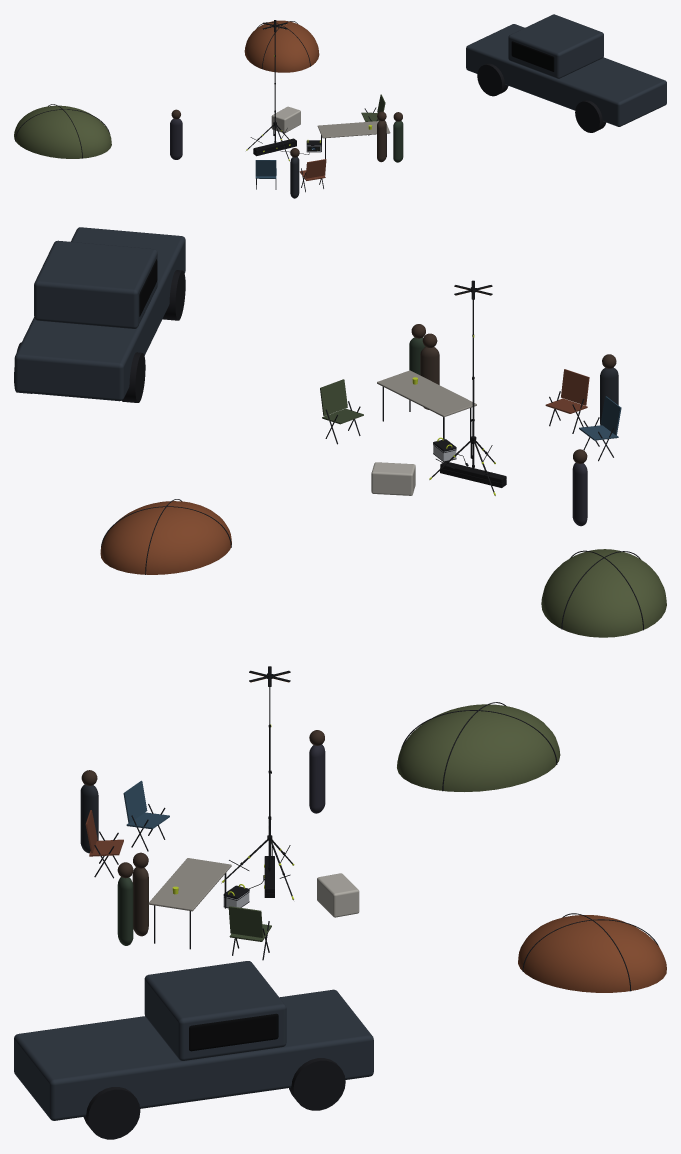
3 renders of one model, top to bottom at view 1: azimuth 30°, elevation 25°; view 2: azimuth 150°, elevation 25°; view 3: azimuth 270°, elevation 25°, orthographic. The views are drawn at different scales.
Visible parts, largest first — view 1: camp_10, camp_2, camp_11, camp_6, camp_18, camp_13, camp_15, camp_12, camp_45, people_11, people_8, people_5 (+3 smaller); view 2: camp_10, camp_11, camp_2, camp_6, camp_18, camp_45, people_11, camp_33, camp_15, camp_13, camp_40, people_2 (+1 smaller); view 3: camp_10, camp_2, camp_6, camp_11, camp_18, camp_12, camp_14, camp_16, camp_45, people_11, people_8, people_5 (+2 smaller).
Part boxes in pixels (<box>): camp_10: <box>466,24,666,126</box>; camp_2: <box>14,105,111,158</box>; camp_11: <box>508,14,603,78</box>; camp_6: <box>244,20,319,72</box>; camp_18: <box>317,121,390,138</box>; camp_13: <box>477,63,508,96</box>; camp_15: <box>575,100,606,132</box>; camp_12: <box>511,41,554,71</box>; camp_45: <box>271,106,300,132</box>; people_11: <box>170,118,182,159</box>; people_8: <box>393,121,403,162</box>; people_5: <box>377,120,386,162</box>; camp_10: <box>14,227,185,401</box>; camp_11: <box>34,240,157,328</box>; camp_2: <box>541,549,666,637</box>; camp_6: <box>100,501,231,574</box>; camp_18: <box>377,370,476,417</box>; camp_45: <box>371,462,415,495</box>; people_11: <box>572,462,587,526</box>; camp_33: <box>561,369,589,405</box>; camp_15: <box>163,270,185,320</box>; camp_13: <box>122,352,145,402</box>; camp_40: <box>320,379,347,416</box>; people_2: <box>600,367,618,425</box>; camp_10: <box>14,989,373,1120</box>; camp_2: <box>397,704,560,791</box>; camp_6: <box>518,915,666,992</box>; camp_11: <box>144,961,286,1060</box>; camp_18: <box>148,858,231,911</box>; camp_12: <box>189,1013,278,1051</box>; camp_14: <box>289,1058,345,1110</box>; camp_16: <box>83,1087,140,1139</box>; camp_45: <box>317,873,359,917</box>; people_11: <box>309,744,325,813</box>; people_8: <box>117,877,133,945</box>; people_5: <box>132,867,148,936</box>.
Bounding box in the file's own units: 51.63 × 12.16 × 34.41.
49 materials, 2 textured.
